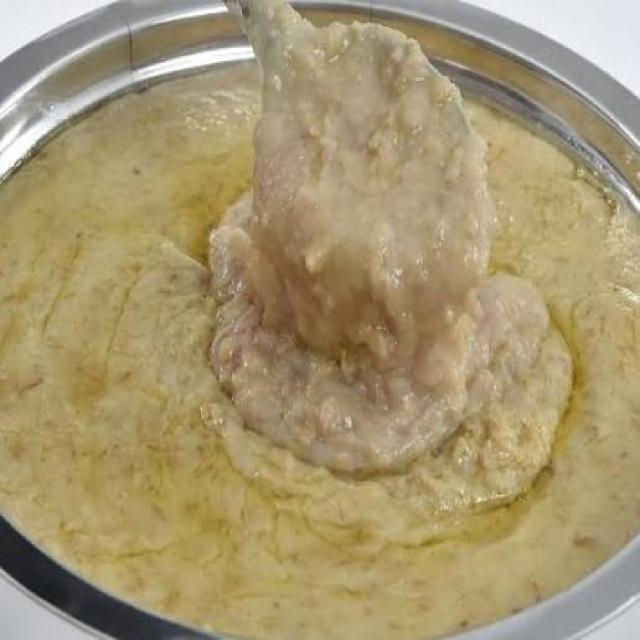Harees: (0, 1, 640, 627)
